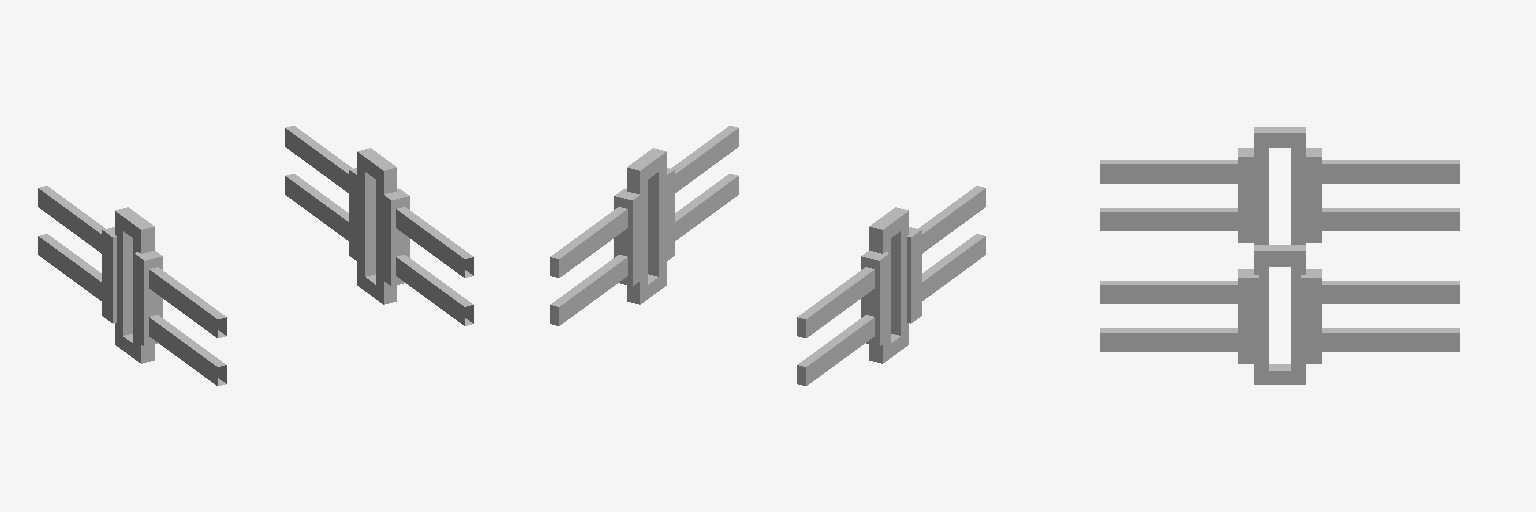
Rendered from pistons.obj.
3 renders of one model, left to right at view 1: azimuth 30°, elevation 25°; view 2: azimuth 150°, elevation 25°; view 3: azimuth 270°, elevation 25°, orthographic.
Parts seen in each view (by area): view 1: cube_18, cube_6, cube_19, cube_7, cube_15, cube_1, cube_8, cube_16, cube_9, cube_17, cube_4, cube_10 (+7 smaller); view 2: cube_17, cube_9, cube_16, cube_8, cube_14, cube_5, cube_7, cube_19, cube_6, cube_18, cube_0, cube_11 (+7 smaller); view 3: cube_6, cube_9, cube_16, cube_19, cube_7, cube_8, cube_17, cube_18, cube_1, cube_5, cube_14, cube_15 (+7 smaller).
Part boxes in pixels (x1,y1,x2,y2): cube_18: (149,315,226,385); cube_6: (396,255,473,325); cube_19: (149,267,226,337); cube_7: (396,207,473,277); cube_15: (134,251,162,346); cube_1: (381,188,409,286); cube_8: (285,126,352,192); cube_16: (38,186,105,253); cube_9: (285,174,348,240); cube_17: (38,234,101,300); cube_4: (357,166,375,276); cube_10: (115,225,132,335); cube_17: (797,315,874,385); cube_9: (550,255,627,325); cube_16: (797,267,874,337); cube_8: (550,207,627,277); cube_14: (861,251,889,346); cube_5: (614,188,642,286); cube_7: (671,126,738,192); cube_19: (918,186,985,253); cube_6: (675,174,738,240); cube_18: (922,234,985,300); cube_0: (648,166,666,276); cube_11: (891,225,908,335); cube_6: (1100,328,1237,351); cube_9: (1322,328,1459,351); cube_16: (1322,160,1459,183); cube_19: (1100,160,1237,183); cube_7: (1100,281,1237,303); cube_8: (1322,281,1459,303); cube_17: (1322,208,1459,230); cube_18: (1100,208,1237,230); cube_1: (1238,269,1258,363); cube_5: (1301,269,1321,363); cube_14: (1301,148,1321,242); cube_15: (1238,148,1258,242).
Size of the model in its own units: 3.62 by 1.75 by 4.25.